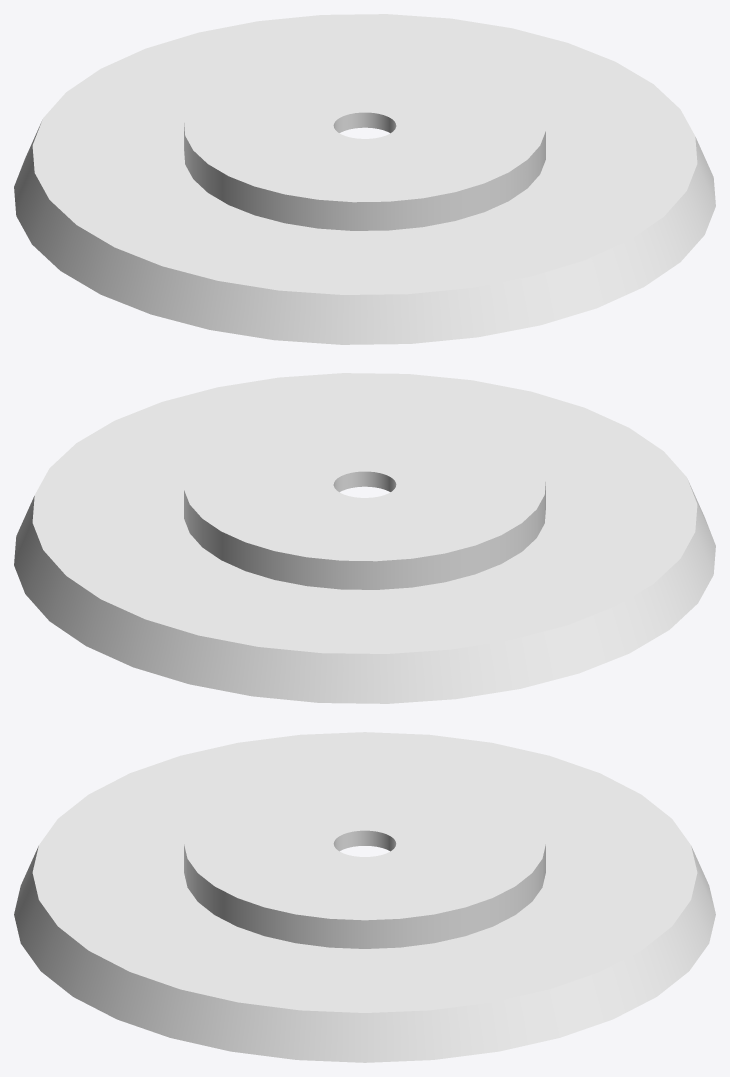
Rendered from DrinkLid_01.glb.
3 views of the same model, one above another, from view 1: azimuth 30°, elevation 25°; view 2: azimuth 150°, elevation 25°; view 3: azimuth 270°, elevation 25° (orthographic).
Parts seen in each view (by area): view 1: Mesh_DrinkLid_01; view 2: Mesh_DrinkLid_01; view 3: Mesh_DrinkLid_01.
Boxes of the visible parts, x1,y1,x2,y2 form: Mesh_DrinkLid_01: [14, 14, 715, 344]; Mesh_DrinkLid_01: [14, 373, 715, 703]; Mesh_DrinkLid_01: [14, 732, 715, 1062].
Bounding box in the file's own units: 0.1152 × 0.0128 × 0.1152.
1 material, 1 textured.
